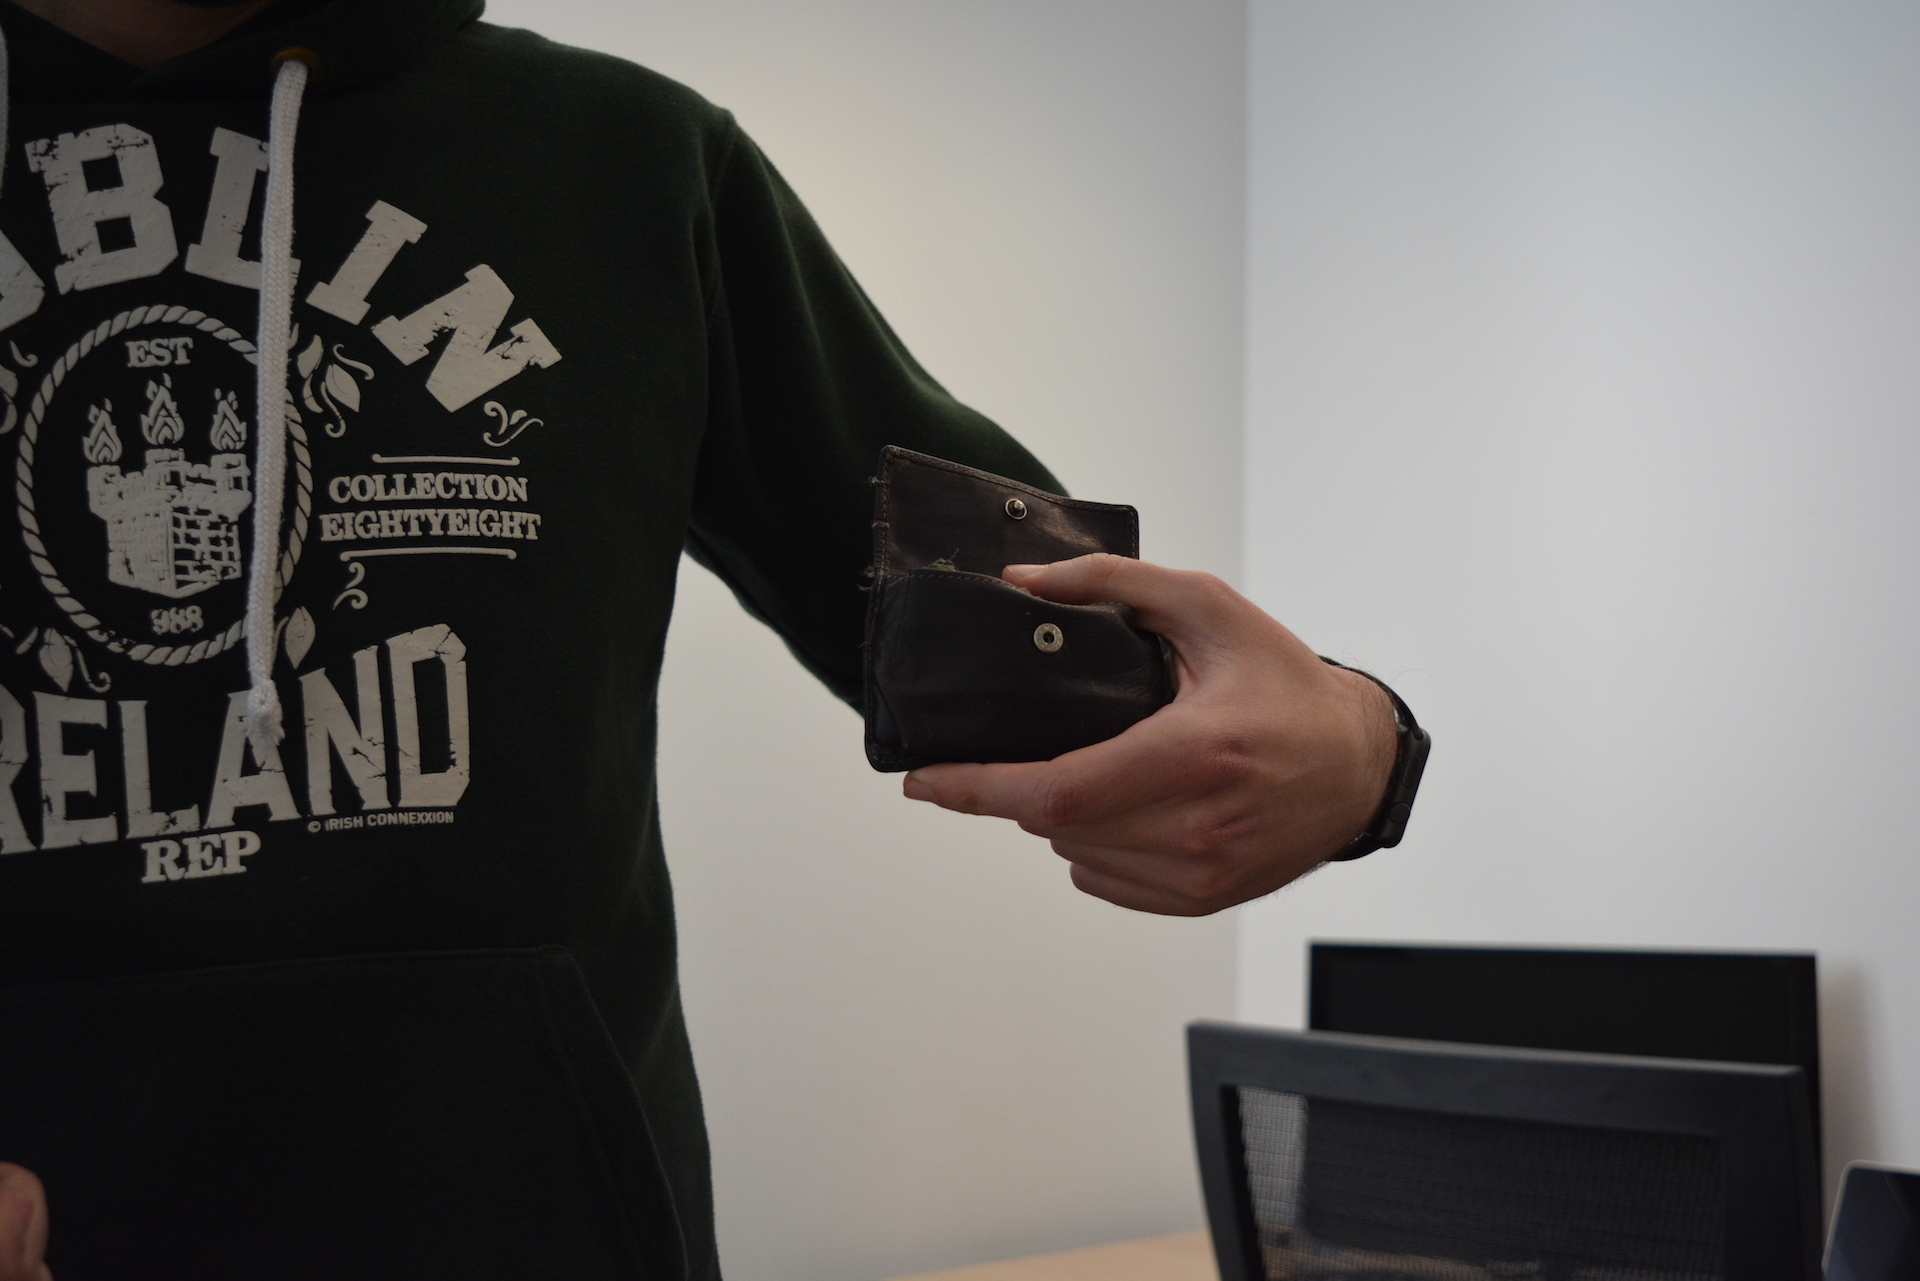monedero: (856, 443, 1177, 776)
